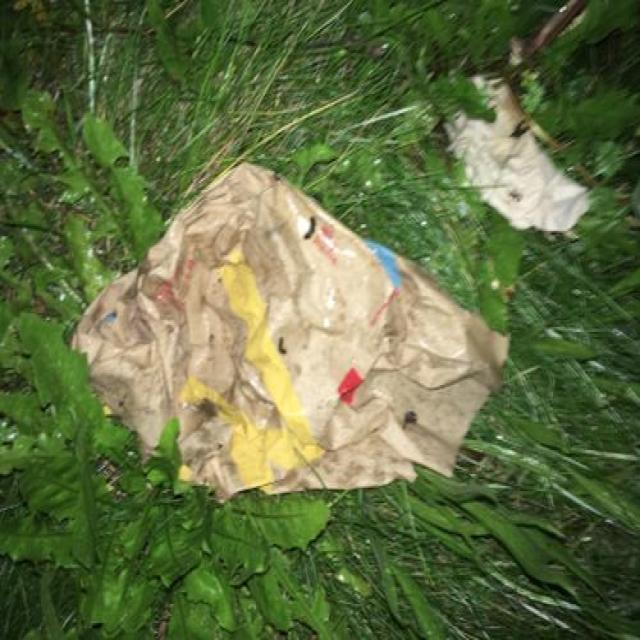Paper: (68, 161, 512, 508), (444, 72, 592, 234)
